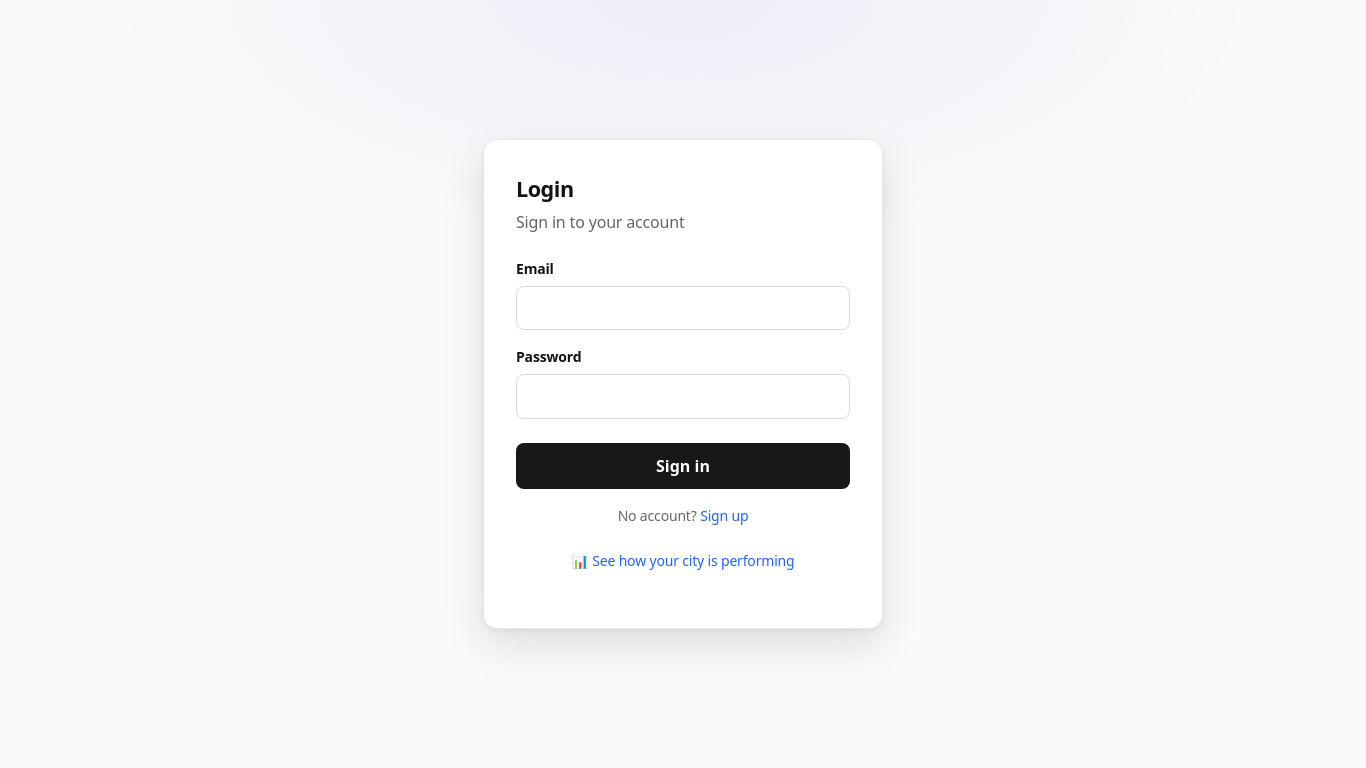
Test: Frontend routing › redirects citizen login to /citizen
Type "c@example.com" into the field labelled "Email".
click(683, 308); type("c@example.com")  # box [516,286,850,330]
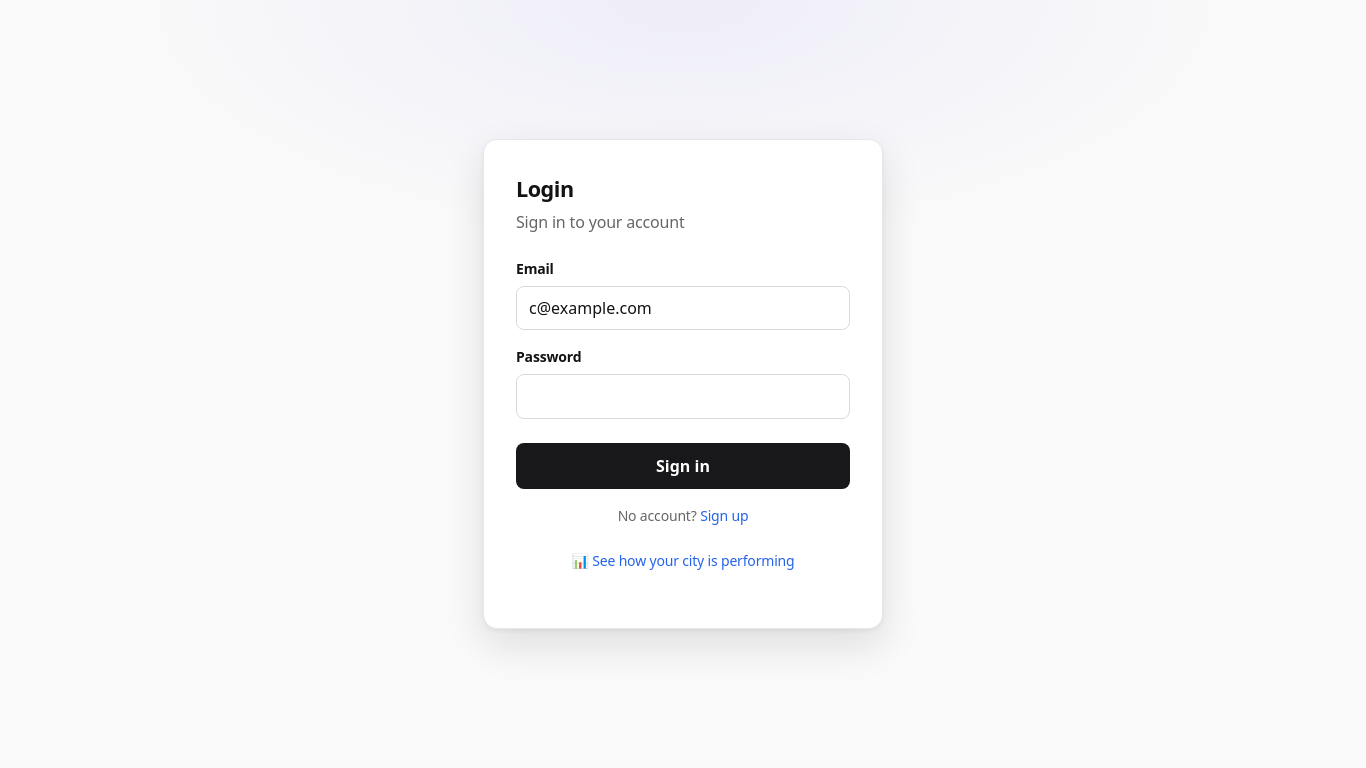
Type "password123" into the password field labelled "Password".
click(683, 396); type("password123")  # box [516,374,850,418]
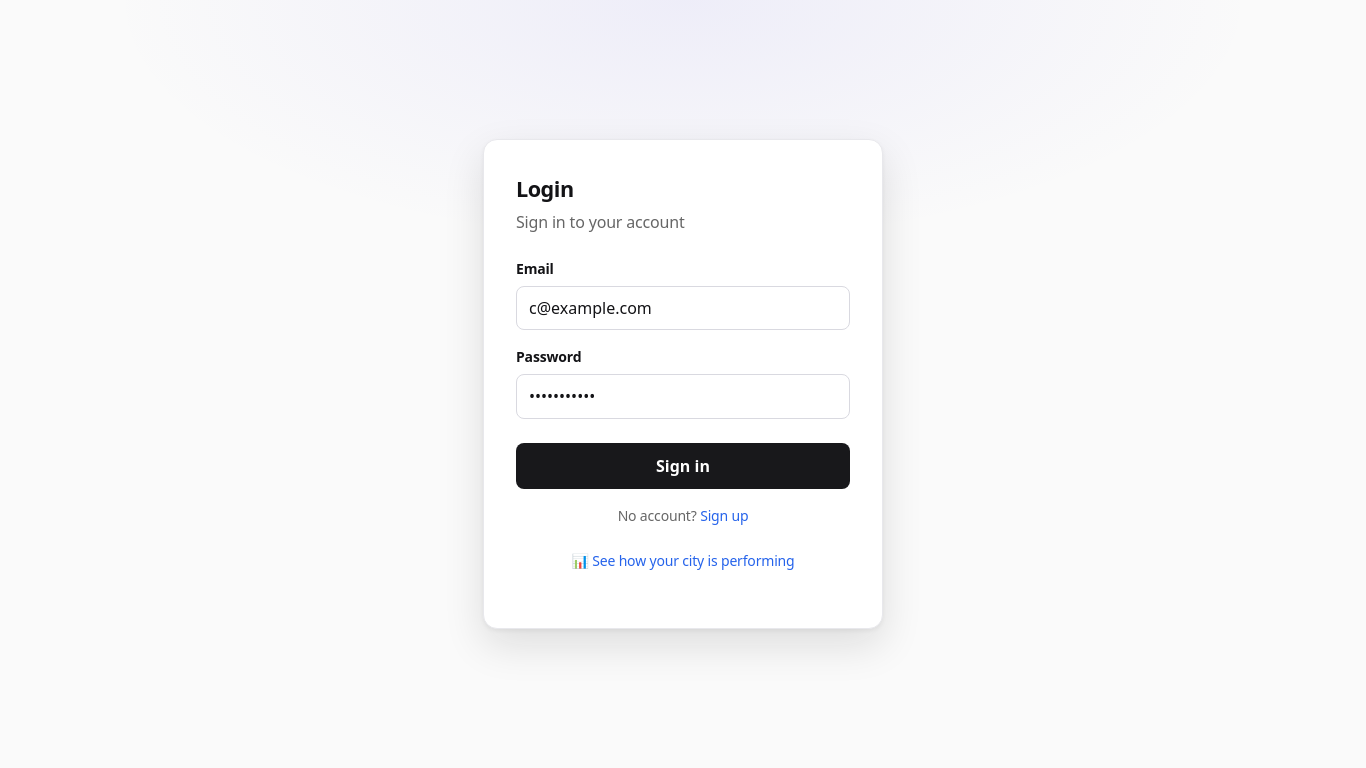
Click the button "Sign in".
click(683, 466)  # box [516,442,850,488]
(page scrolled)
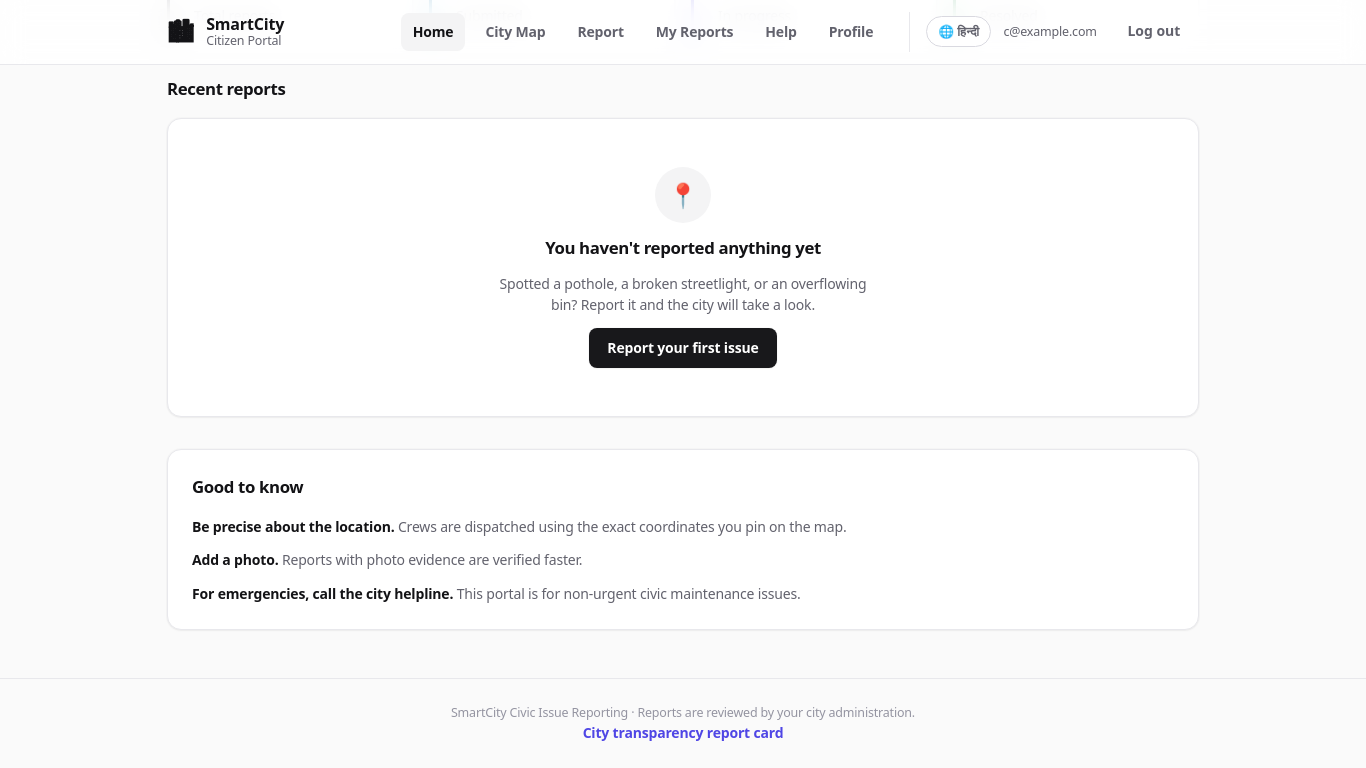
Now the heading "Good to know" is shown, box [192,475,303,498]
